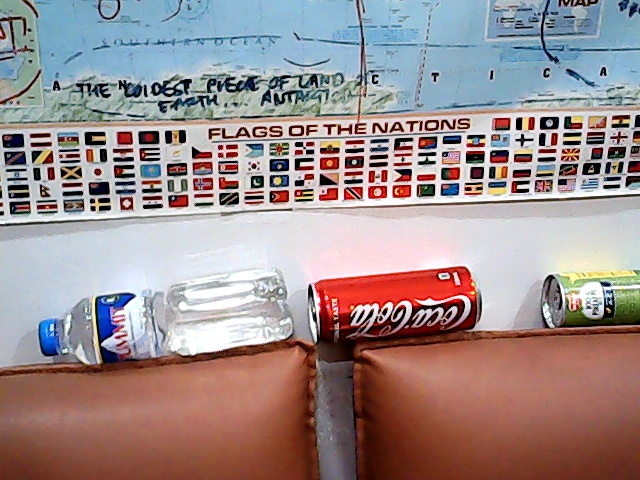Cola: (304, 269, 497, 351)
Pine Juice: (537, 264, 640, 338)
Summit Water: (29, 260, 299, 371)
